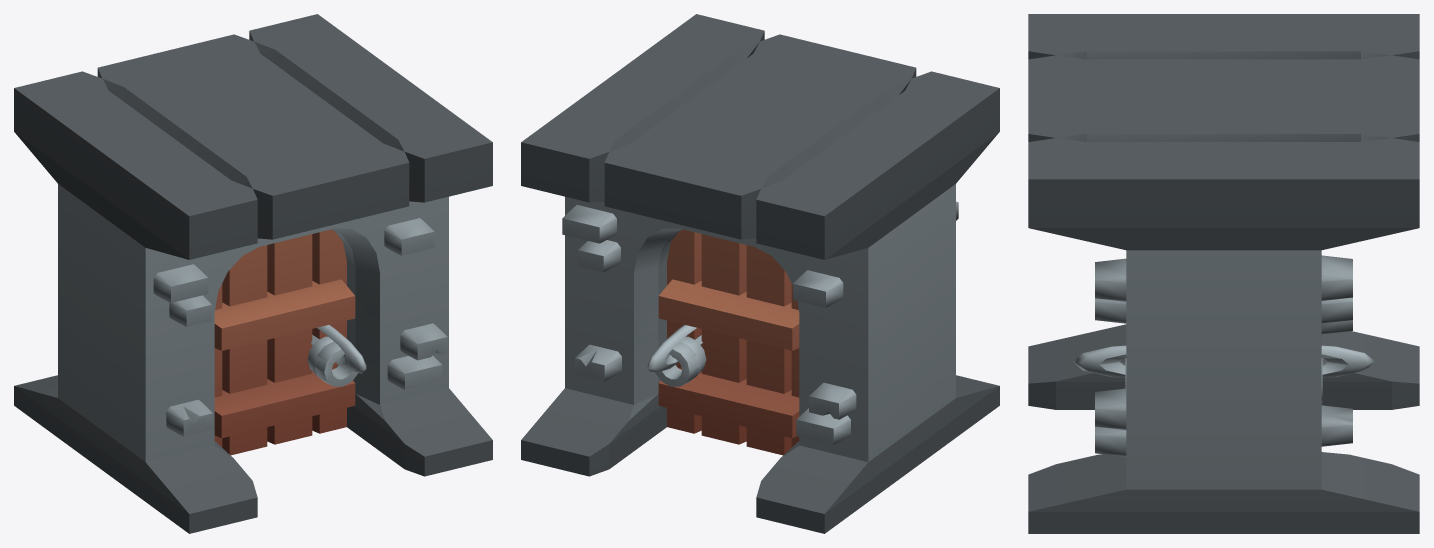
File: wall_door.glb
3 views of the same model, side by side, from view 1: azimuth 30°, elevation 25°; view 2: azimuth 150°, elevation 25°; view 3: azimuth 270°, elevation 25° (orthographic). The views are drawn at different scales.
Visible parts, largest first — view 1: wall_doorway, wall_doorway_door; view 2: wall_doorway, wall_doorway_door; view 3: wall_doorway, wall_doorway_door.
Part boxes in pixels (bbox=[...]): wall_doorway: bbox=[14, 14, 492, 533]; wall_doorway_door: bbox=[214, 229, 366, 455]; wall_doorway: bbox=[521, 14, 999, 533]; wall_doorway_door: bbox=[647, 229, 799, 455]; wall_doorway: bbox=[1028, 14, 1419, 533]; wall_doorway_door: bbox=[1073, 345, 1374, 402].
Bounding box in the file's own units: 1 × 1 × 1.
1 material, 1 textured.
